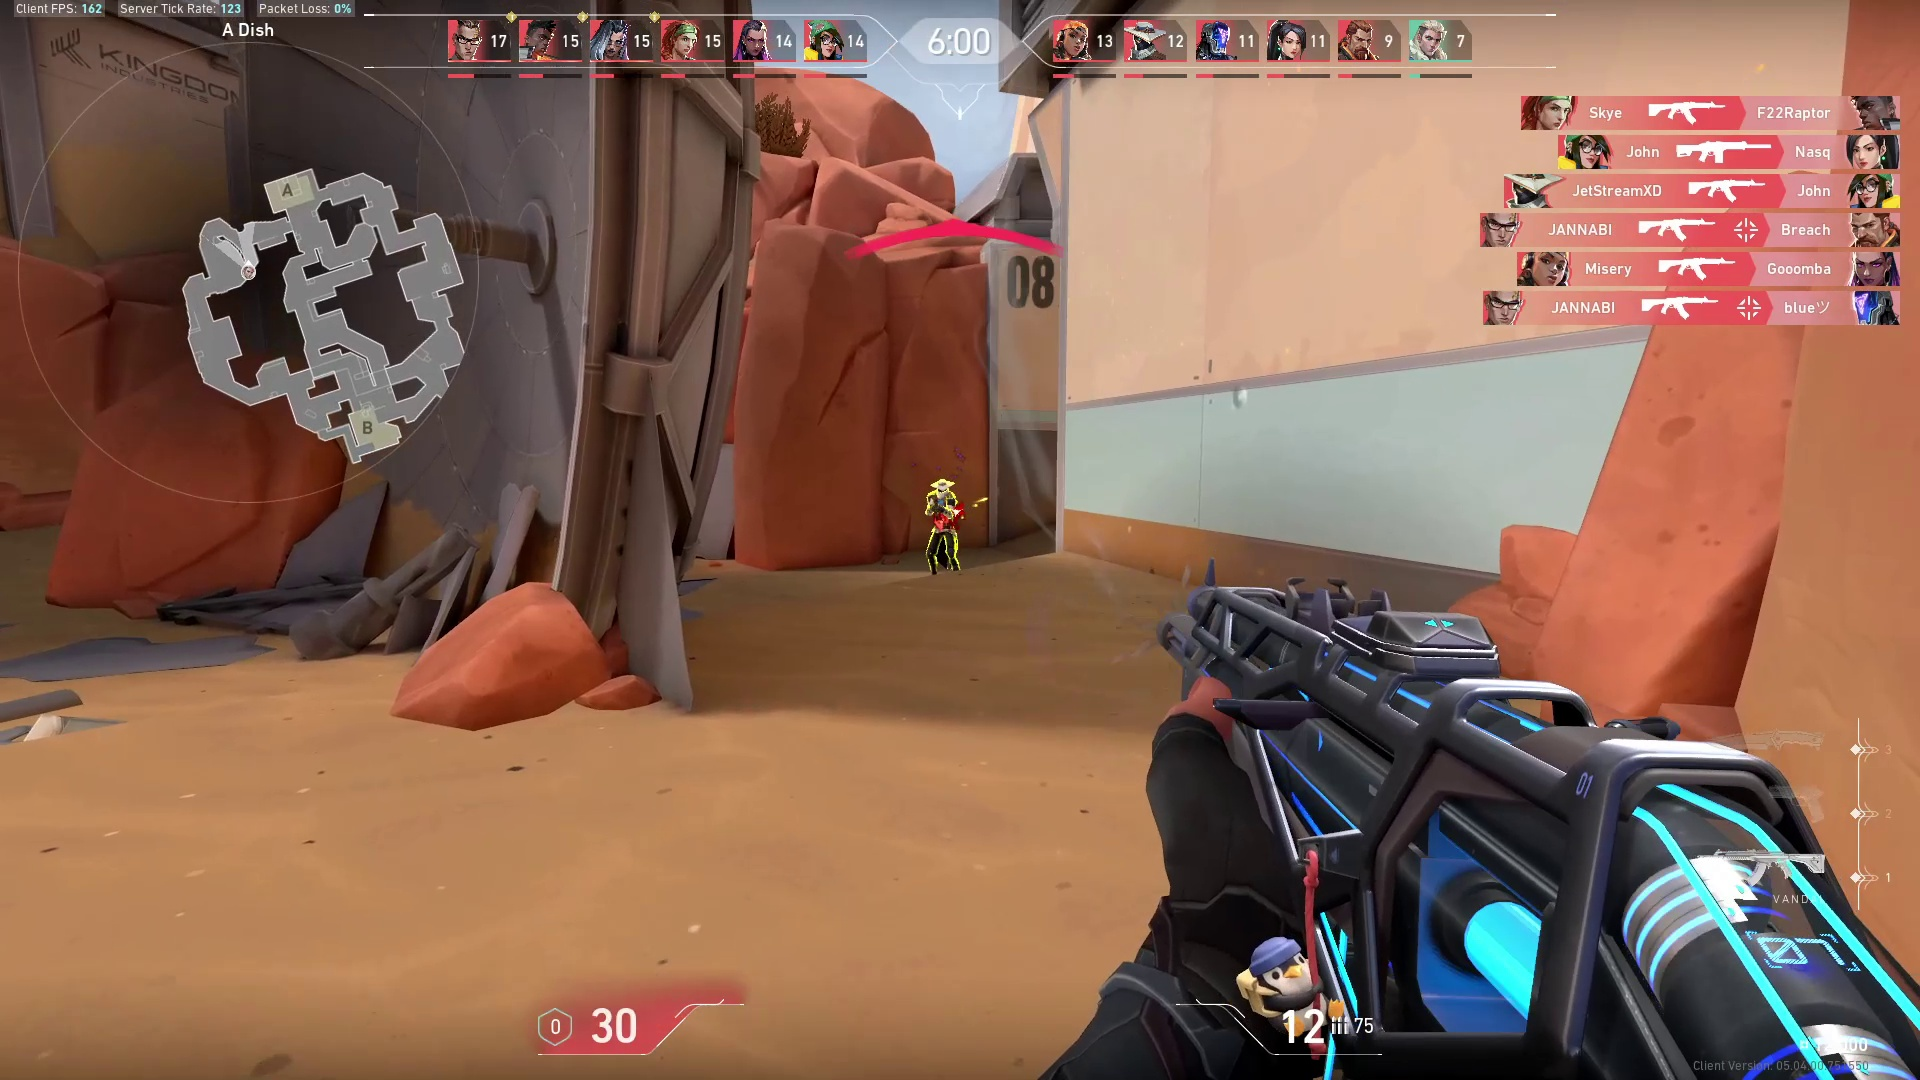enemy_body: (924, 494, 970, 576)
enemy_head: (929, 474, 954, 497)
